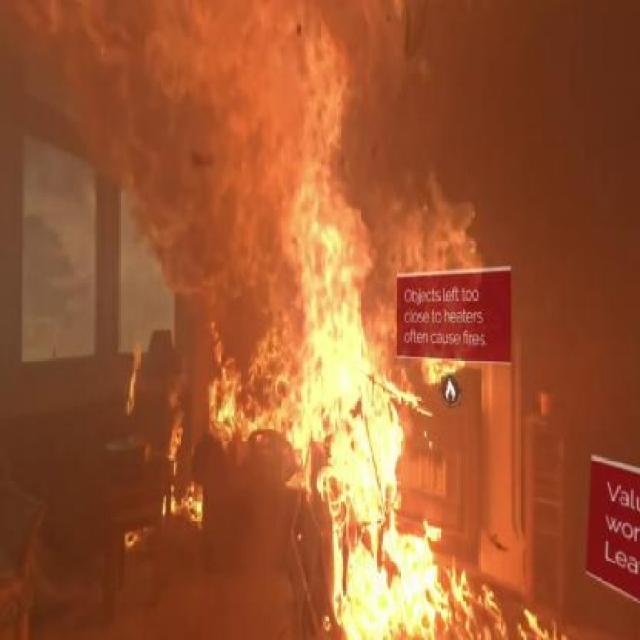fire: (292, 258, 446, 636)
smoke: (444, 1, 630, 246), (24, 187, 114, 458)
